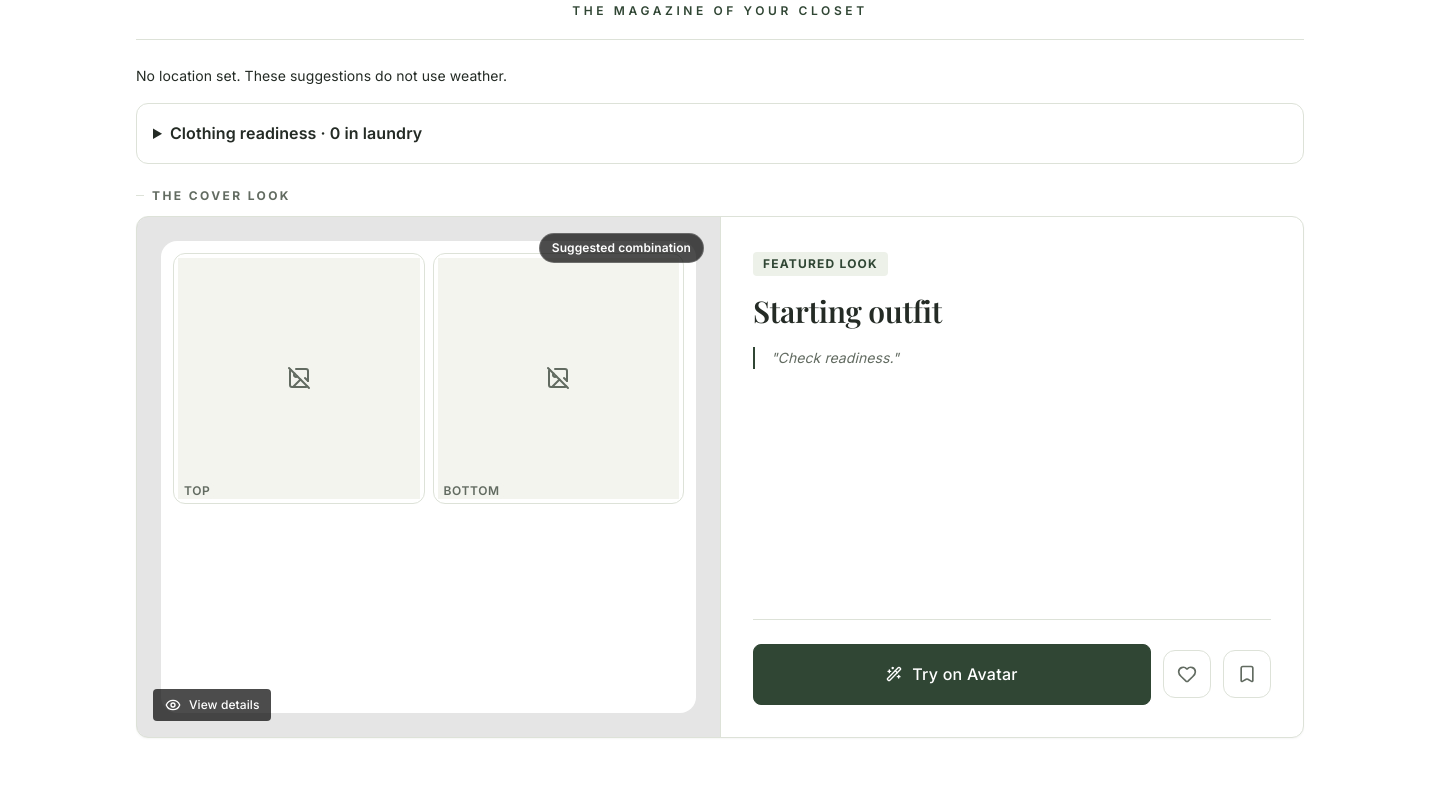
Test case: grounded outfit actions › shows unknown weather and makes a server-validated one-piece swap
(page scrolled)
Expected: the text "No location set. These suggestions do not use weather." is shown, [136, 67, 507, 84]
Click the button with aria-label "View details for Starting outfit" at (428, 477), box [137, 217, 720, 737]
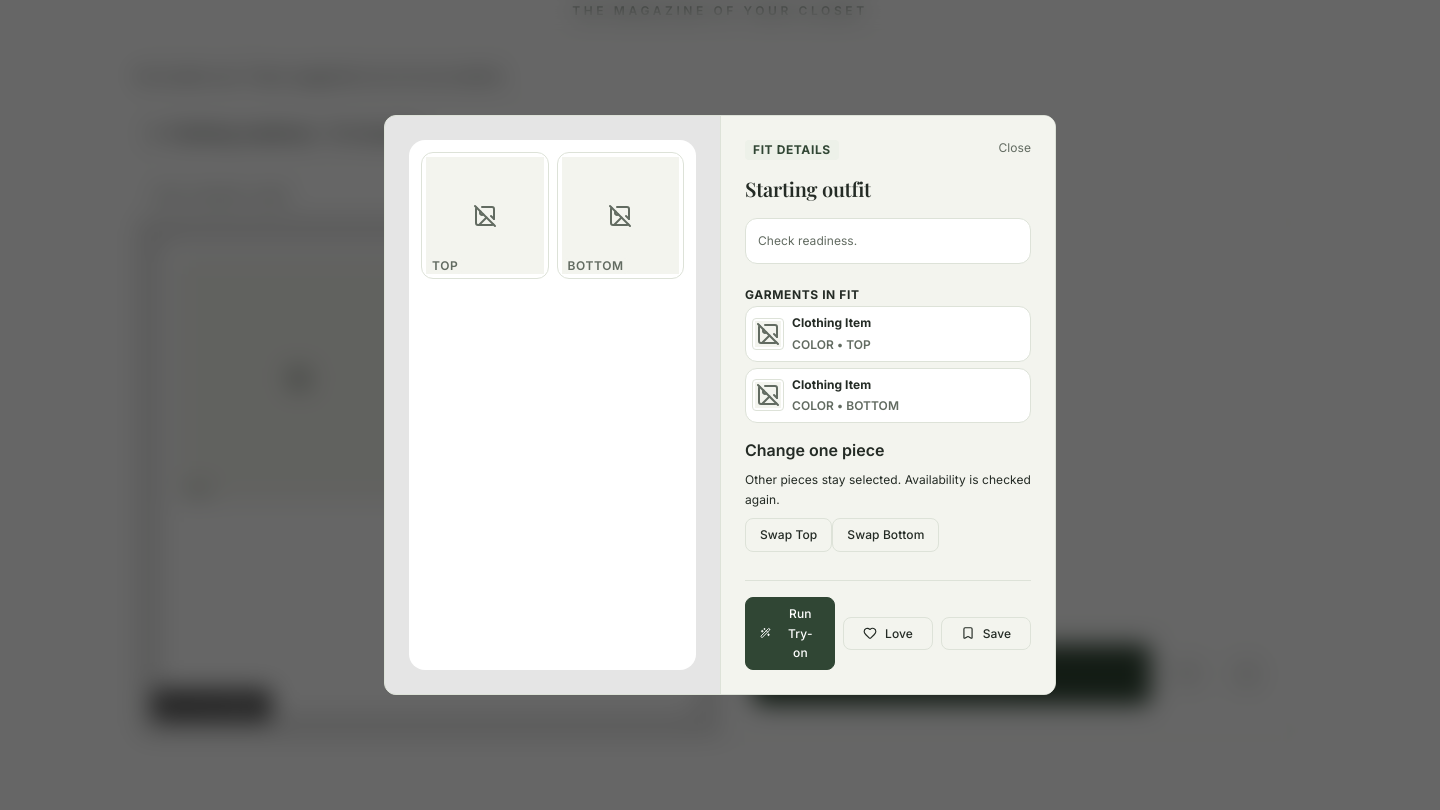
Click the button "Swap Top" at (789, 535), box [745, 518, 832, 552]
(page scrolled)
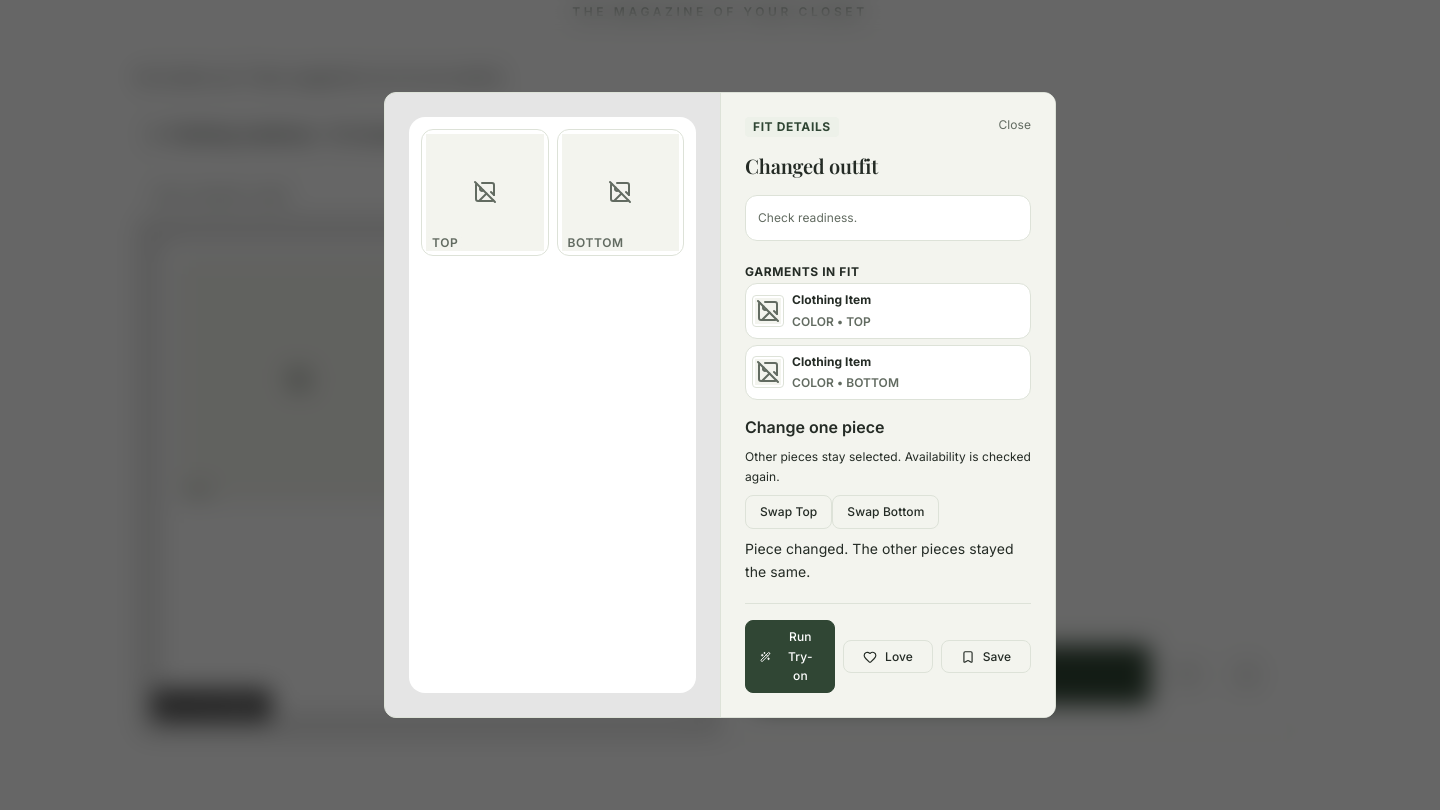
Result: the button "Swap Bottom" is shown at [832, 495, 939, 529]
Result: the heading "Changed outfit" below "Featured Look" is shown at [753, 291, 953, 331]
